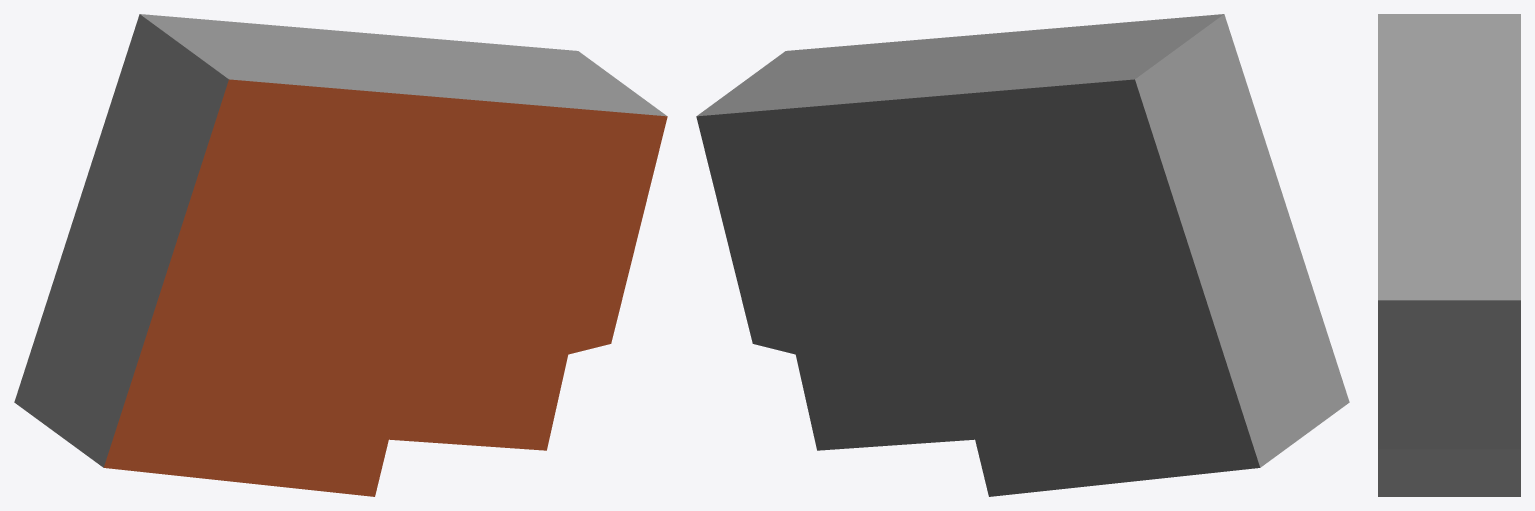
File: construction_6024_assumed_A_Casa_h6m.obj
The picture shows the model from 3 angles, left to right: view 1: azimuth 30°, elevation 25°; view 2: azimuth 150°, elevation 25°; view 3: azimuth 270°, elevation 25°; orthographic projection. The views are drawn at different scales.
Visible parts, largest first — view 1: construction_6024_assumed_A_Casa; view 2: construction_6024_assumed_A_Casa; view 3: construction_6024_assumed_A_Casa.
Boxes of the visible parts, <box> form: construction_6024_assumed_A_Casa: <box>14,14,667,496</box>; construction_6024_assumed_A_Casa: <box>696,14,1349,496</box>; construction_6024_assumed_A_Casa: <box>1378,14,1520,496</box>.
Size of the model in its own units: 21.86 by 16.78 by 6.
